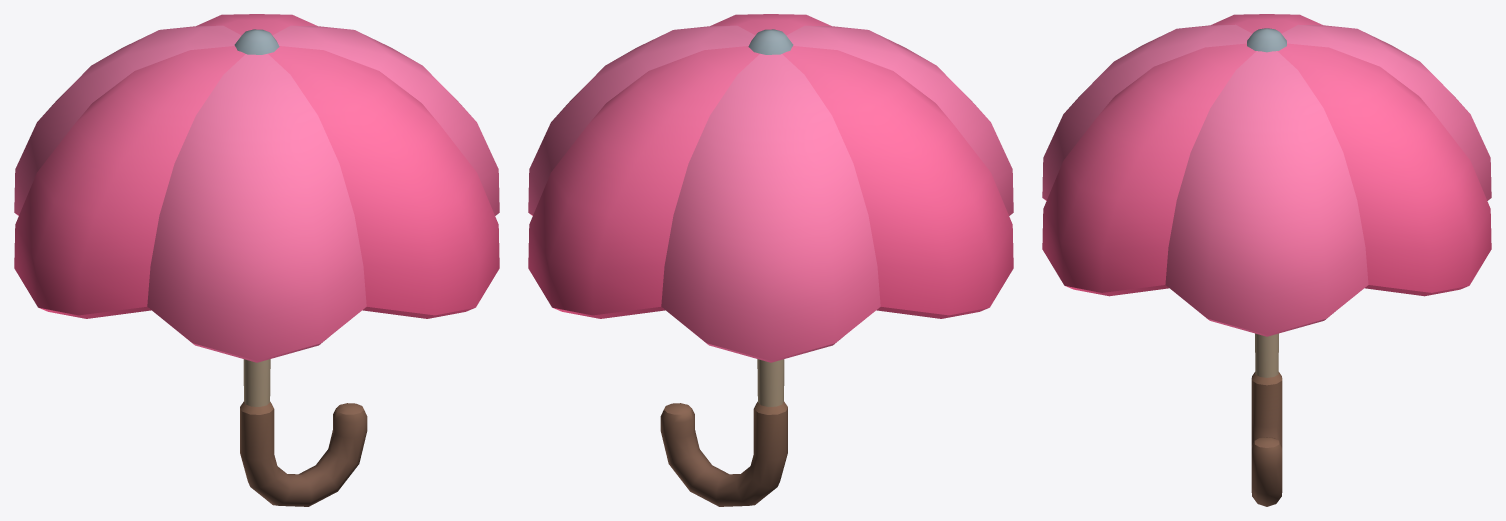
Rendered from umbrella_pink.fbx.
3 renders of one model, left to right at view 1: azimuth 30°, elevation 25°; view 2: azimuth 150°, elevation 25°; view 3: azimuth 270°, elevation 25°, orthographic. The views are drawn at different scales.
Parts seen in each view (by area): view 1: umbrella_pink; view 2: umbrella_pink; view 3: umbrella_pink.
Boxes of the visible parts, x1,y1,x2,y2 form: umbrella_pink: (14,14,499,506); umbrella_pink: (528,14,1013,506); umbrella_pink: (1042,14,1491,506).
Size of the model in its own units: 177 by 186 by 168.
